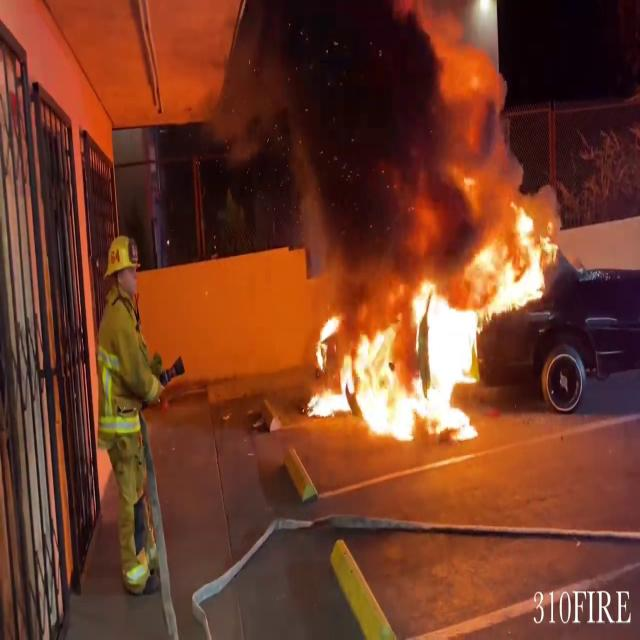Fire: (296, 270, 492, 443), (478, 199, 567, 325)
Smoke: (291, 0, 536, 256)
